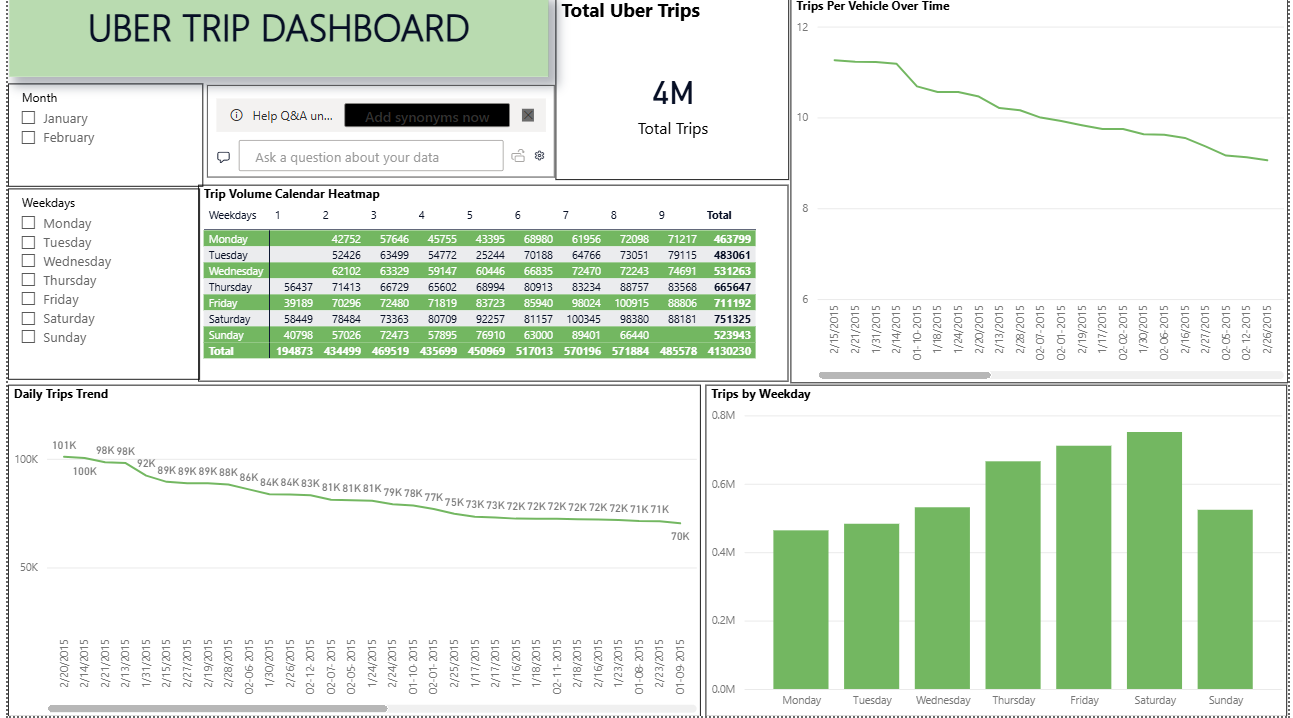

This screenshot's page, from the dashboard's own definition file:
{"tool":"powerbi","page":{"name":"Page 1","canvas":[1280,720],"ordinal":0},"visuals":[{"type":"card","title":"Total Uber Trips ","fields":{"Values":["Uber-Jan-Feb-FOIL.Total Trips"]},"box":[547.7,0,233.7,184.2],"z":0},{"type":"lineChart","title":"Daily Trips Trend","fields":{"Category":["Uber-Jan-Feb-FOIL.date"],"Y":["Sum(Uber-Jan-Feb-FOIL.trips)"]},"box":[0,388.6,693,332.3],"z":1000},{"type":"clusteredColumnChart","title":"Trips by Weekday","fields":{"Y":["Sum(Uber-Jan-Feb-FOIL.trips)"],"Category":["Uber-Jan-Feb-FOIL.WeekdayName"]},"box":[697.7,388.1,581.4,331.6],"z":2000},{"type":"lineChart","title":"Trips Per Vehicle Over Time","fields":{"Category":["Uber-Jan-Feb-FOIL.date"],"Y":["Uber-Jan-Feb-FOIL.Trips Per Vehicle"]},"box":[782.6,0,497.7,387.4],"z":3000},{"type":"slicer","title":"Month","fields":{"Values":["Uber-Jan-Feb-FOIL.MonthName"]},"box":[0,87.2,195.1,103.3],"z":4000},{"type":"slicer","fields":{"Values":["Uber-Jan-Feb-FOIL.WeekdayName"]},"box":[0,193,192.3,190.9],"z":5000},{"type":"pivotTable","title":"Trip Volume Calendar Heatmap","fields":{"Rows":["Uber-Jan-Feb-FOIL.WeekdayName"],"Values":["Uber-Jan-Feb-FOIL.Total Trips"],"Columns":["Uber-Jan-Feb-FOIL.WeekOfYear"]},"box":[190.2,188.1,590.7,196.5],"z":6000},{"type":"textbox","box":[1.2,0,539.5,81.2],"z":7000},{"type":"qnaVisual","box":[198.8,88.8,347.7,92.6],"z":8000}]}

Visuals, with their boxes on the page's 1280x720 design canvas (x1, y1, x2, y2). These are canvas units, not pixel positions in the 1293x718 screenshot, which may show the page scaled, cropped or inside an application window:
"Total Uber Trips " card: [x1=548, y1=0, x2=781, y2=184]
"Daily Trips Trend" lineChart: [x1=0, y1=389, x2=693, y2=721]
"Trips by Weekday" clusteredColumnChart: [x1=698, y1=388, x2=1279, y2=720]
"Trips Per Vehicle Over Time" lineChart: [x1=783, y1=0, x2=1280, y2=387]
"Month" slicer: [x1=0, y1=87, x2=195, y2=190]
slicer - Uber-Jan-Feb-FOIL.WeekdayName: [x1=0, y1=193, x2=192, y2=384]
"Trip Volume Calendar Heatmap" pivotTable: [x1=190, y1=188, x2=781, y2=385]
textbox: [x1=1, y1=0, x2=541, y2=81]
qnaVisual: [x1=199, y1=89, x2=546, y2=181]
